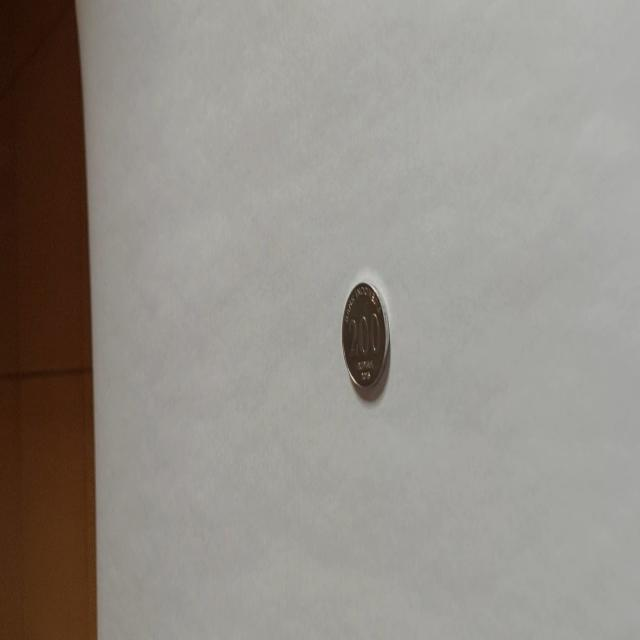dua ratus rupiah: (340, 279, 390, 392)
